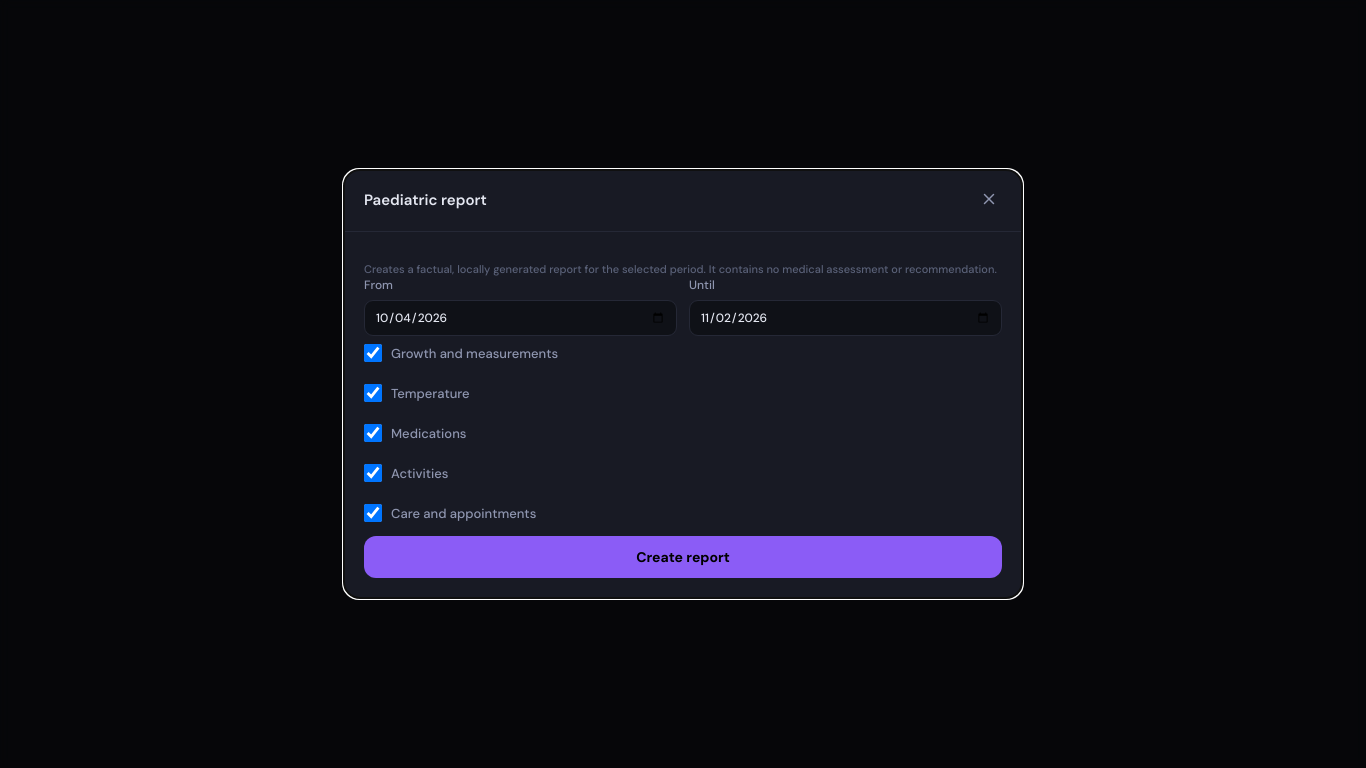
uses the child's own night window for the report
The width and height of the screenshot is (1366, 768).
Click the button "Create report". click: (683, 558)
box: [364,536,1002,578]
(page scrolled)
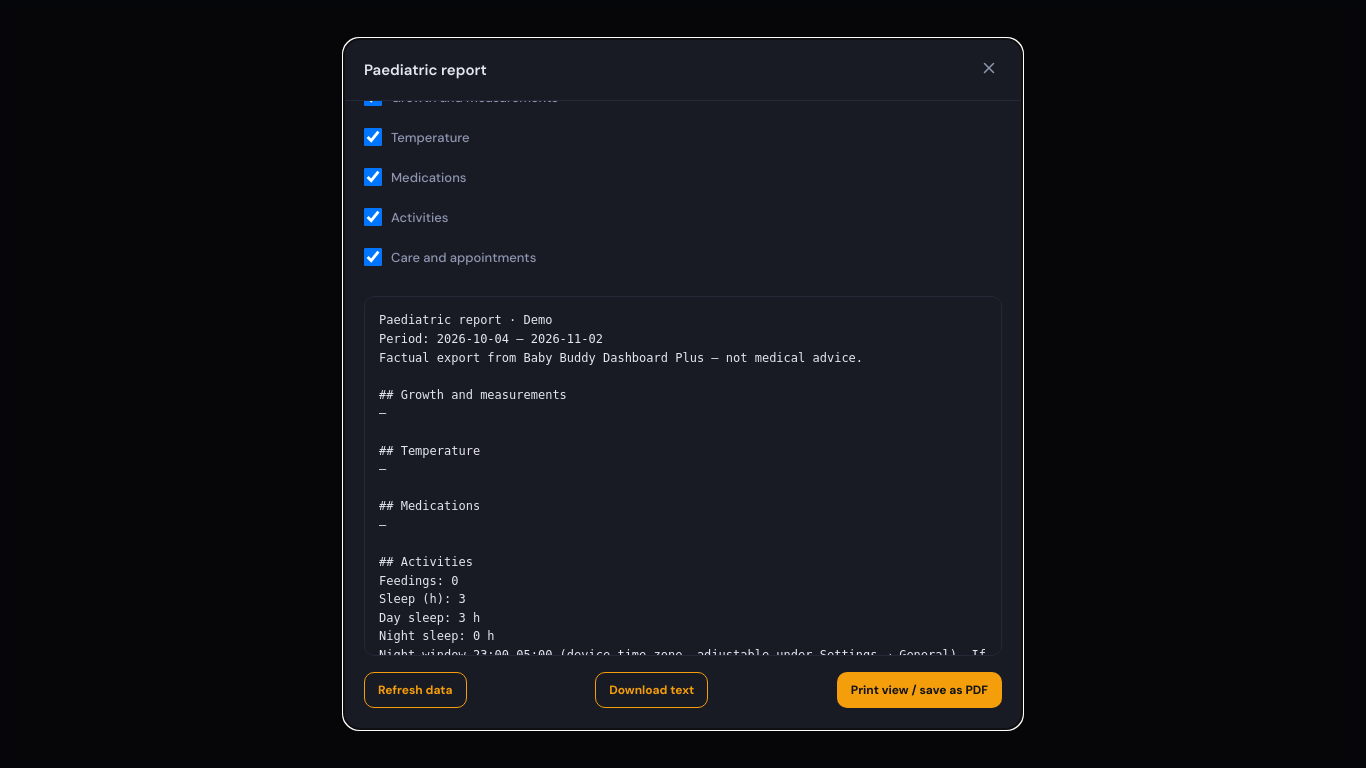
Expected: the text "Day sleep: 3 h" is shown, [379,313,993,729]
Expected: the text "Night sleep: 0 h" is shown, [379,313,993,729]
Expected: the text "Night window 23:00–05:00" is shown, [379,313,993,729]
